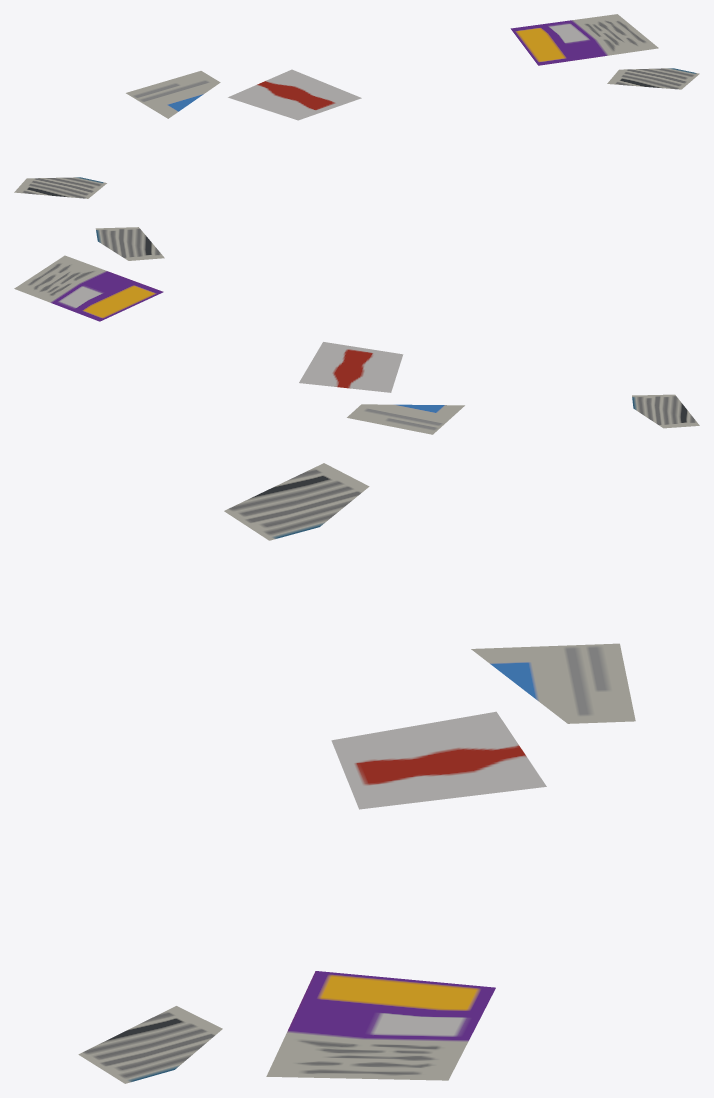
The model's file is SM_Props_Papers_07.fbx.
3 views of the same model, one above another, from view 1: azimuth 30°, elevation 25°; view 2: azimuth 150°, elevation 25°; view 3: azimuth 270°, elevation 25° (orthographic). The views are drawn at different scales.
Parts seen in each view (by area): view 1: SM_Props_Papers_07; view 2: SM_Props_Papers_07; view 3: SM_Props_Papers_07.
Part boxes in pixels (x1,y1,x2,y2): SM_Props_Papers_07: [14, 14, 699, 198]; SM_Props_Papers_07: [14, 227, 699, 434]; SM_Props_Papers_07: [78, 463, 635, 1083].
Bounding box in the file's own units: 216 × 0.2996 × 81.87.
